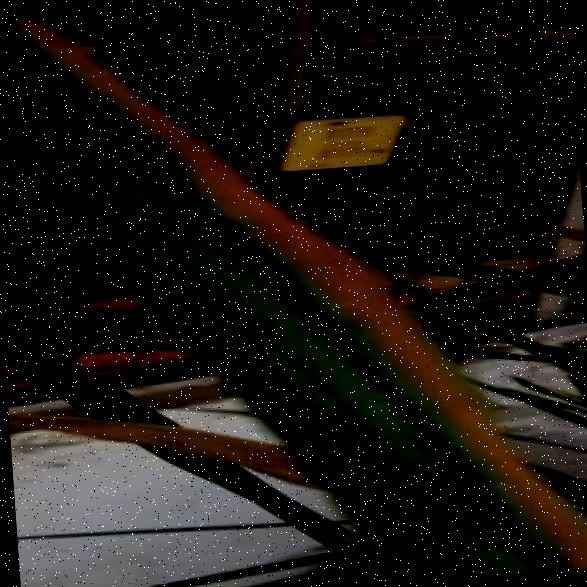Bacteria_Leaf_Blight: (227, 280, 511, 587)
